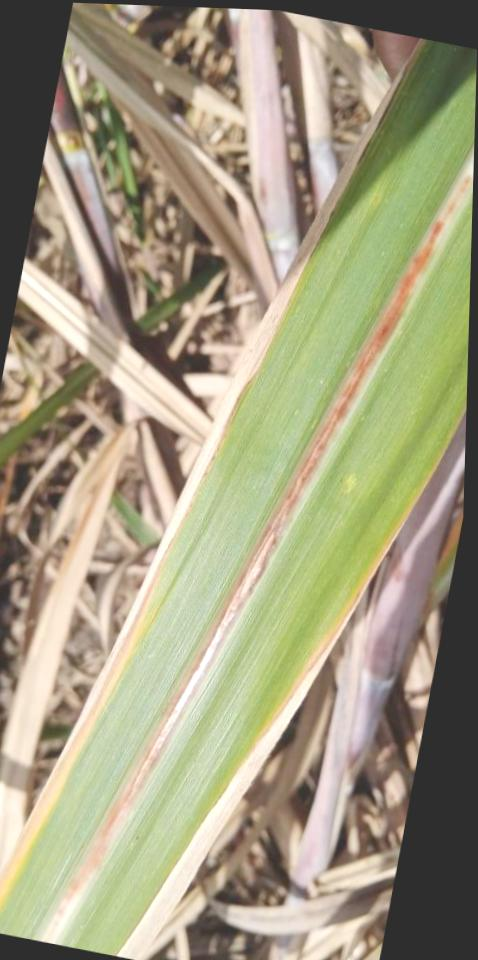RedRot: (54, 172, 473, 918)
